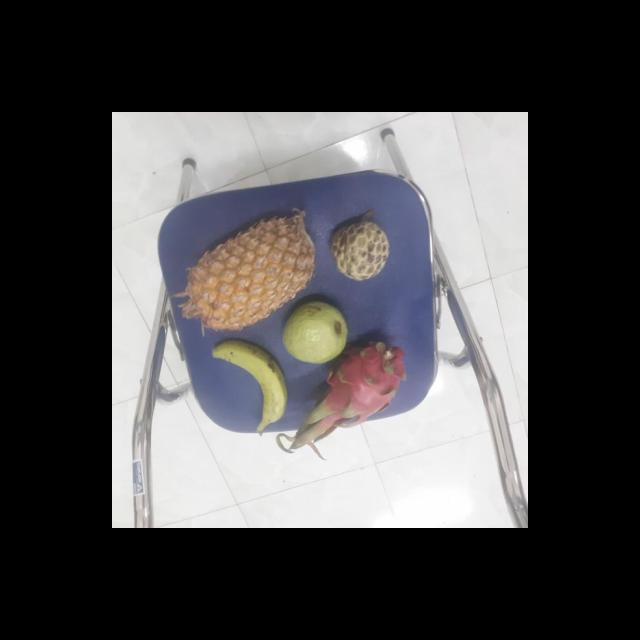Sakya fruit: (326, 217, 389, 280)
banana: (211, 338, 289, 428)
guava: (278, 300, 348, 363)
pineapple: (179, 212, 313, 330)
pitaya: (302, 340, 400, 432)
